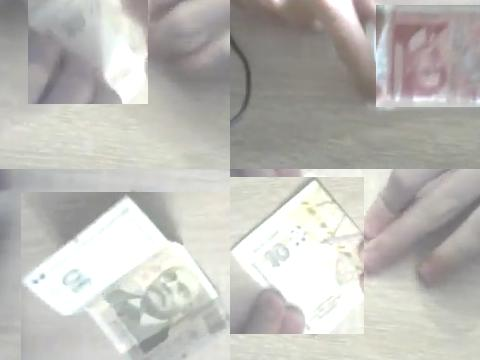10leva: (21, 192, 230, 360), (230, 177, 364, 334), (28, 0, 148, 104)
5leva: (376, 5, 480, 107)
